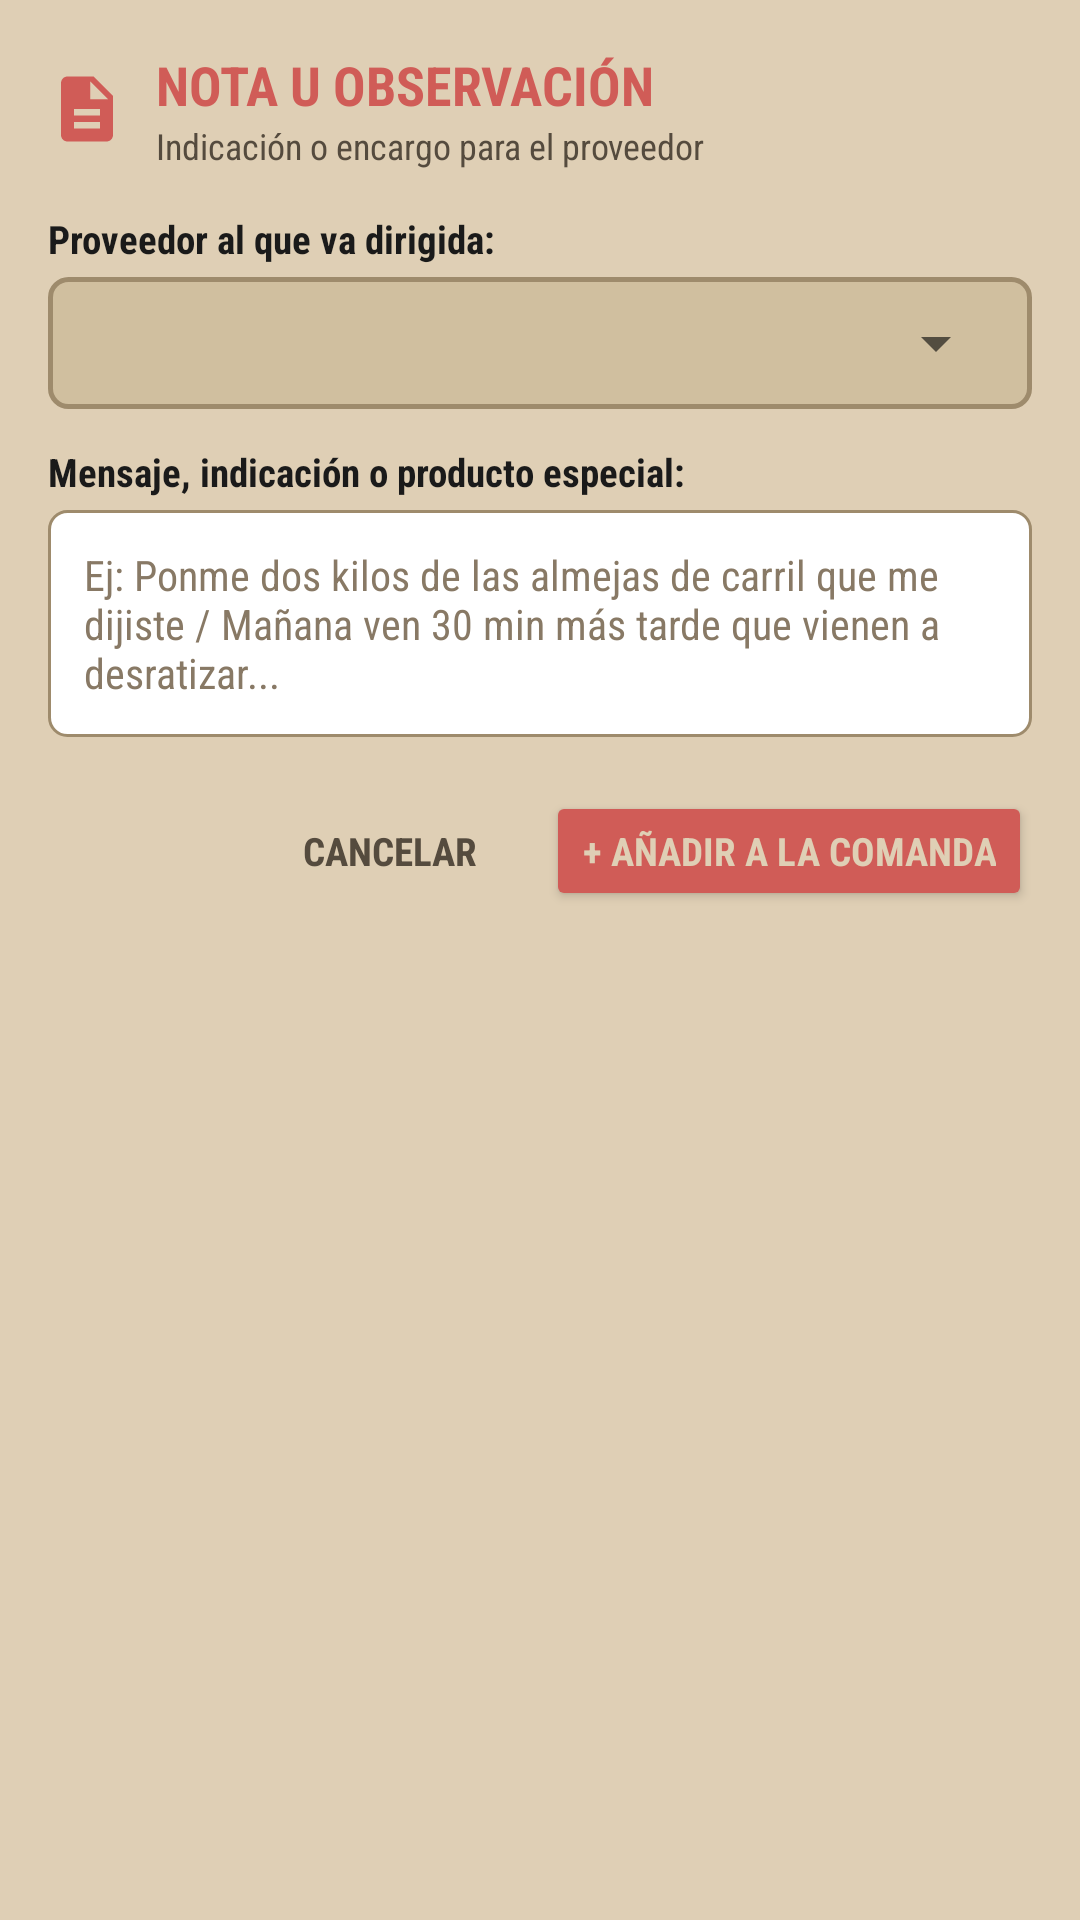

Where to tap for icons on this 1080w x 1920h app screen, as [x,y]:
note: [87,109]
